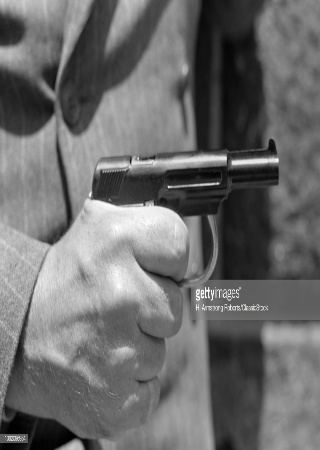handgun: (87, 148, 278, 284)
